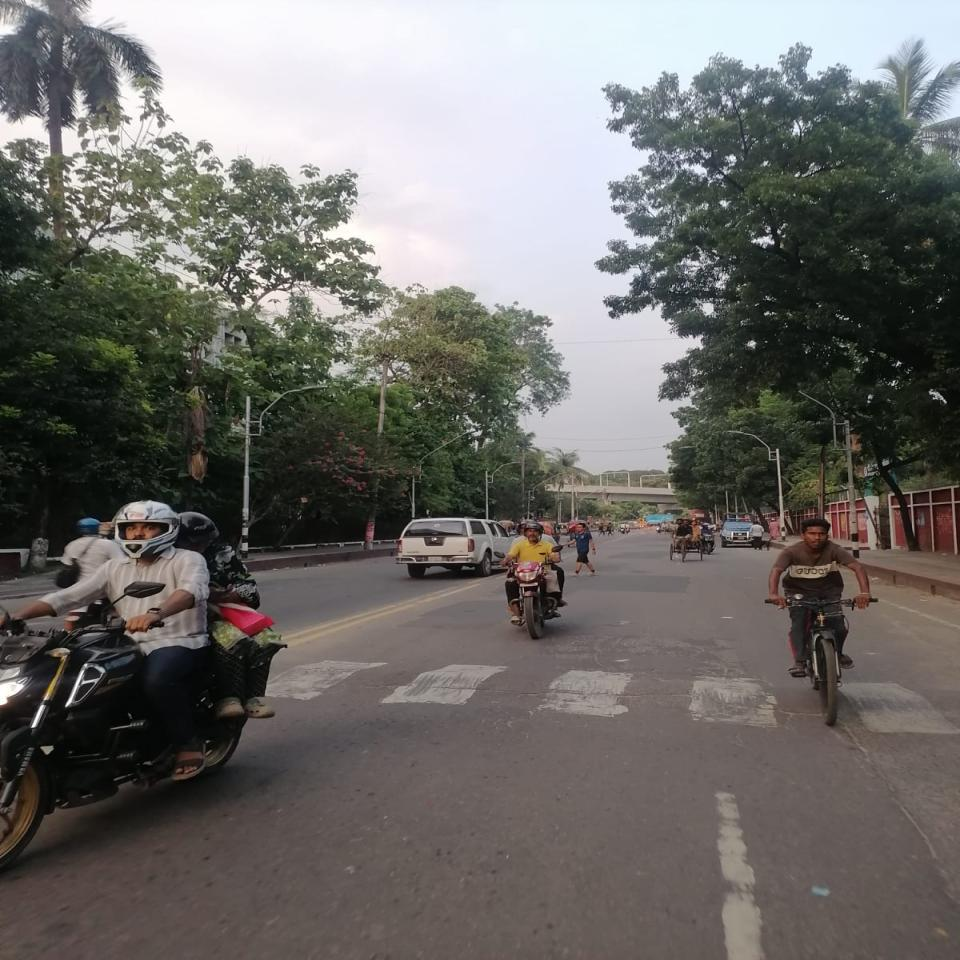person: (568, 522, 596, 578)
